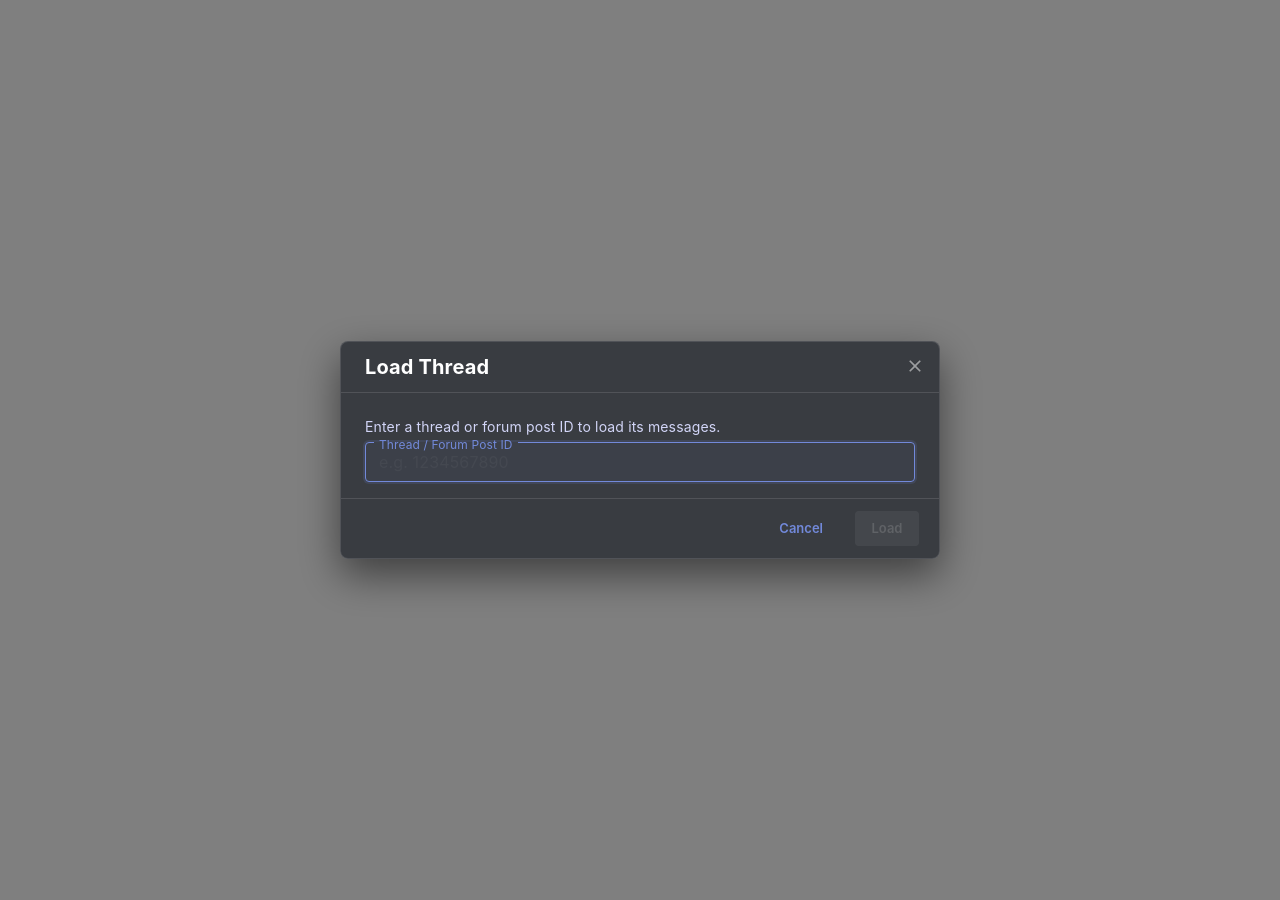
Scenario: ThreadLoadModal › should strip non-numeric characters from input
Type "abc123def456" into the field labelled "Thread / Forum Post ID" at (640, 462), box [365, 442, 915, 482]
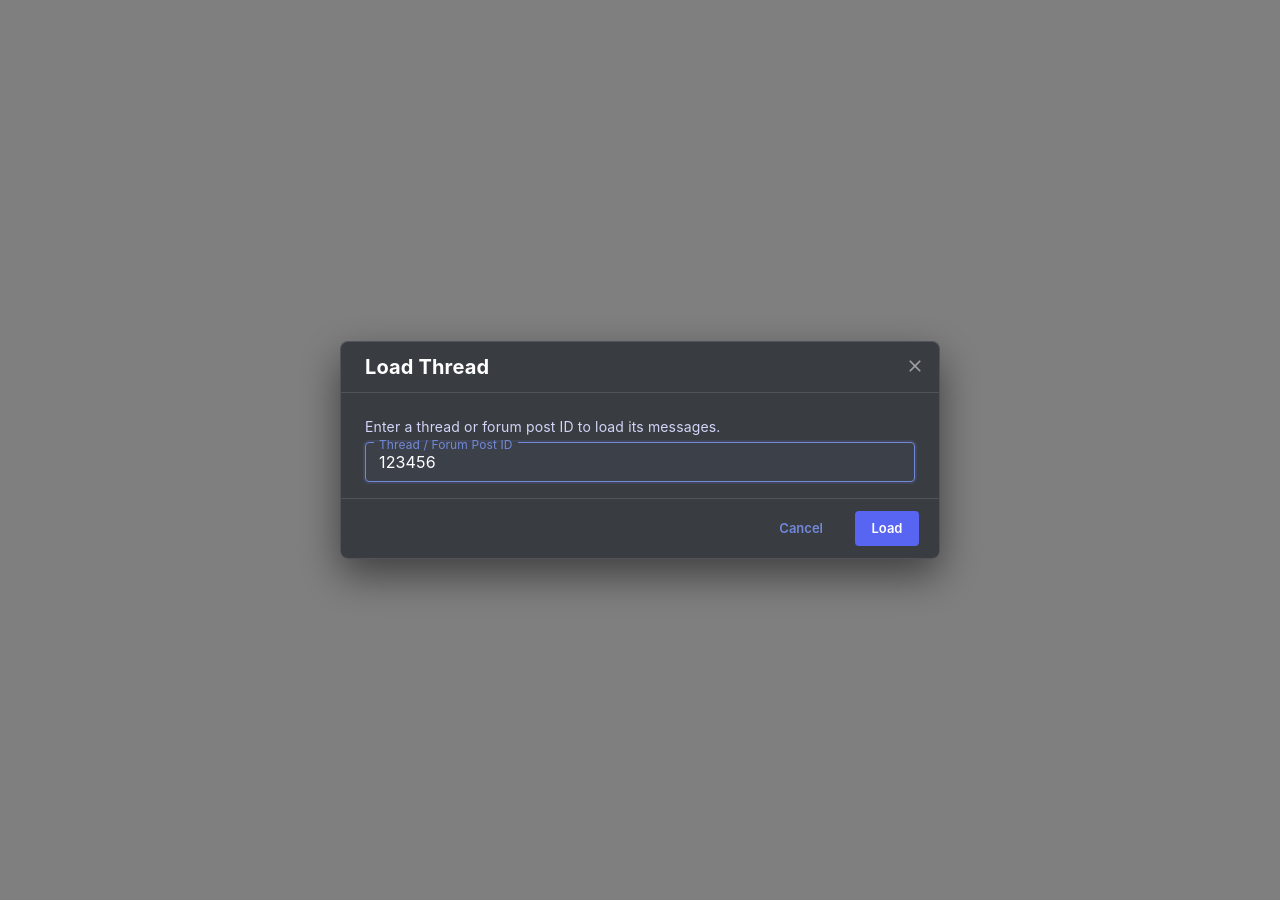
Expected: the field labelled "Thread / Forum Post ID" holds "123456", [365, 442, 915, 482]
